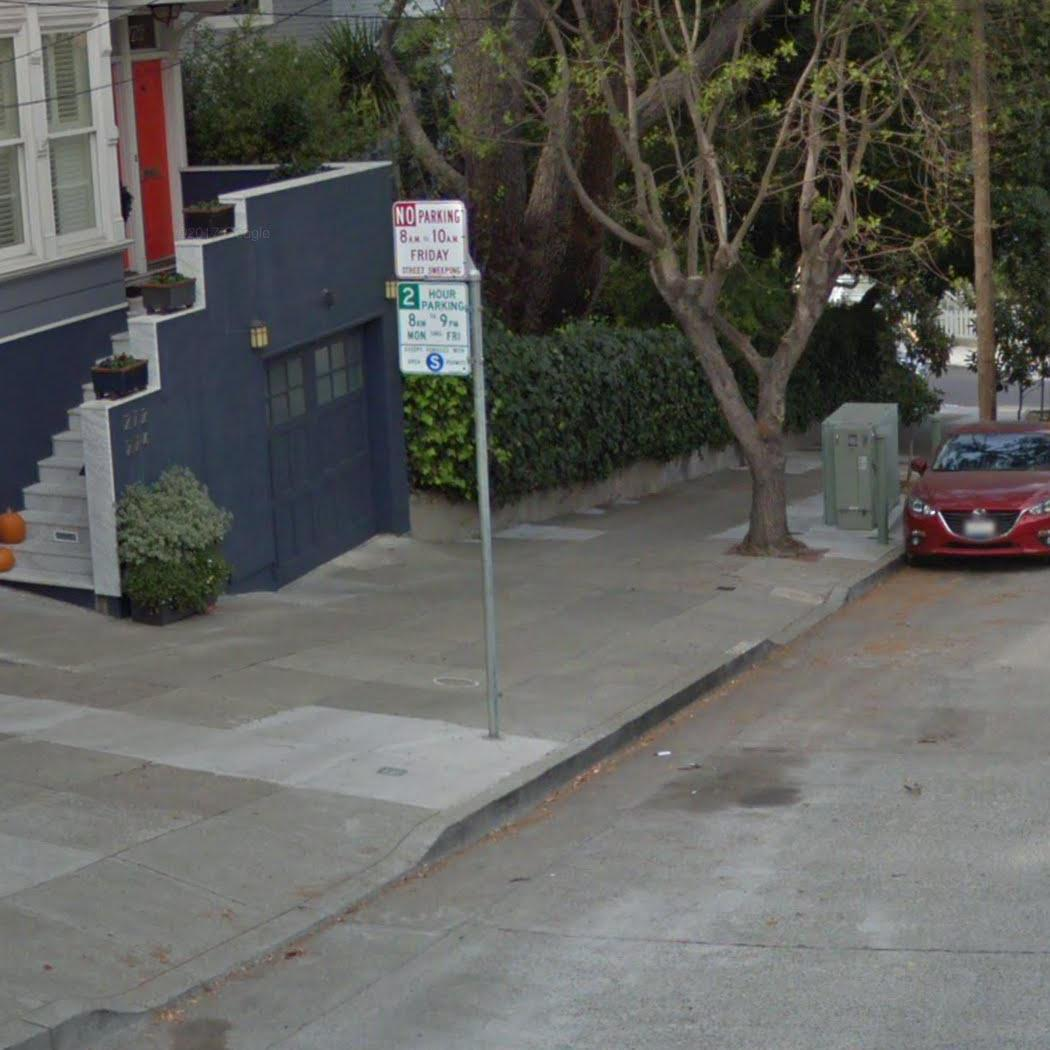2 Hour Parking: (393, 280, 477, 376)
No Parking: (389, 196, 469, 281)
